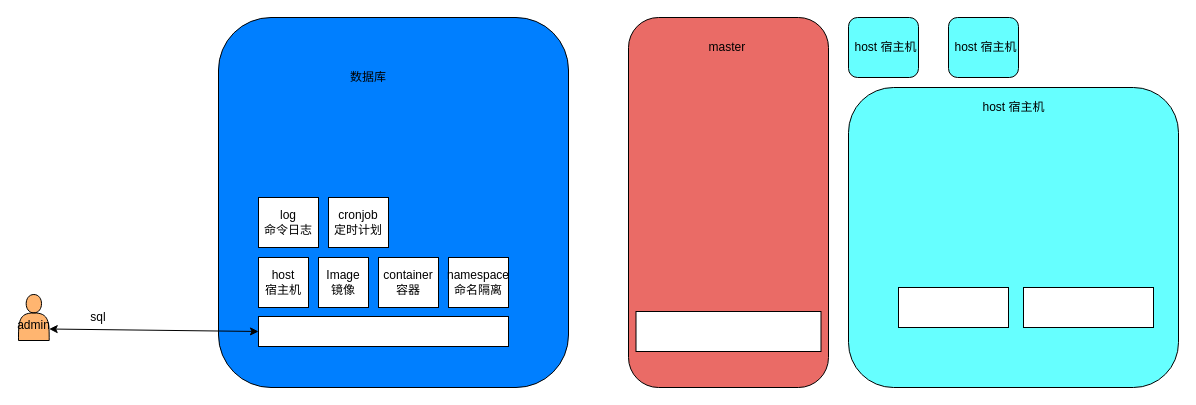
This 1196x405 diagram has some shape labels left out. The centre of each missing label's shape, as x and y in pixels:
docker-daemon: pixel 1088 307
mysql: pixel 383 331
syncer: pixel 728 331
syncer-let: pixel 953 307
